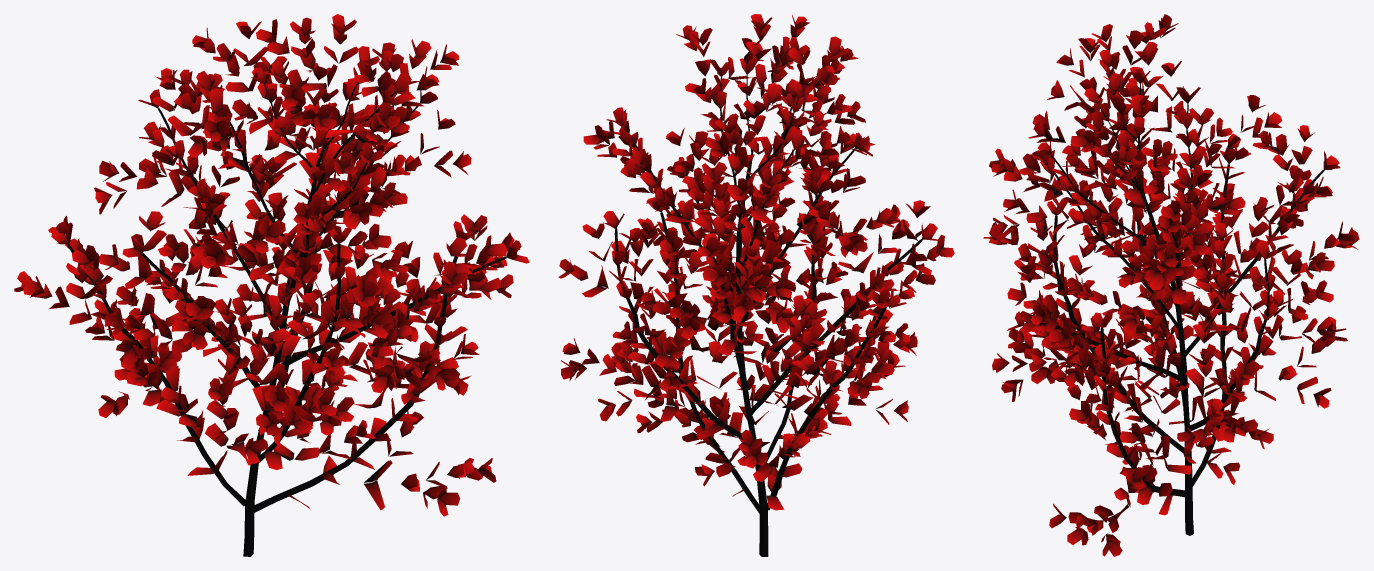
File: Boxwood_wfypfa3ha_Low_wfypfa3ha_VarA_LOD2.fbx
3 views of the same model, side by side, from view 1: azimuth 30°, elevation 25°; view 2: azimuth 150°, elevation 25°; view 3: azimuth 270°, elevation 25° (orthographic). The views are drawn at different scales.
Visible parts, largest first — view 1: _0lym_VarA_LOD4; view 2: _0lym_VarA_LOD4; view 3: _0lym_VarA_LOD4.
Boxes of the visible parts, x1,y1,x2,y2 form: _0lym_VarA_LOD4: (14,14,529,556); _0lym_VarA_LOD4: (558,14,954,556); _0lym_VarA_LOD4: (983,14,1359,556).
Size of the model in its own units: 48.37 by 68.79 by 45.86.
